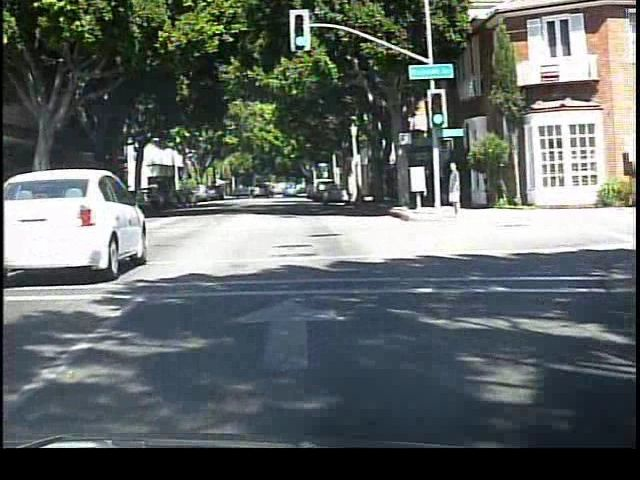person: (444, 158, 465, 219)
